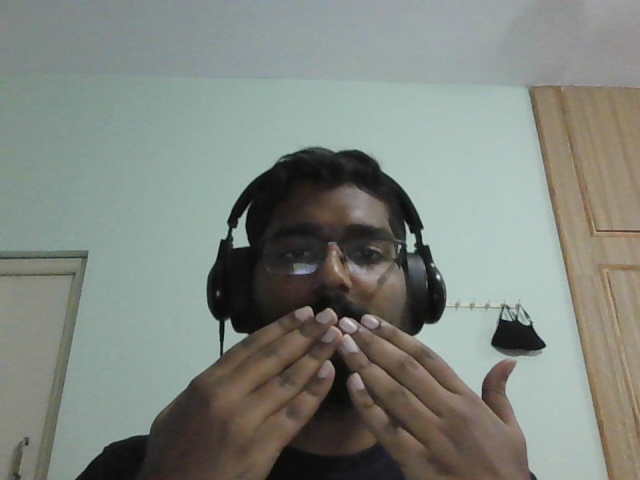Thank You: (149, 307, 552, 480)
